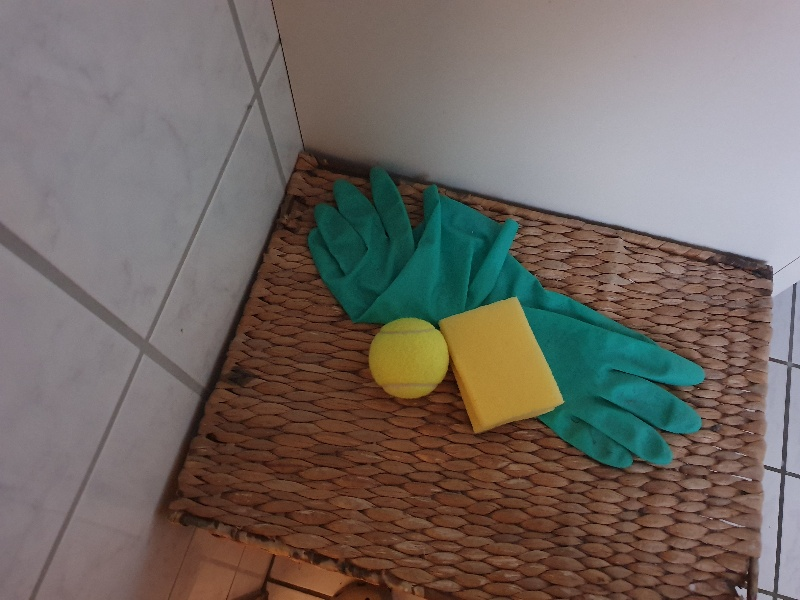Tennisball: (363, 310, 453, 404)
